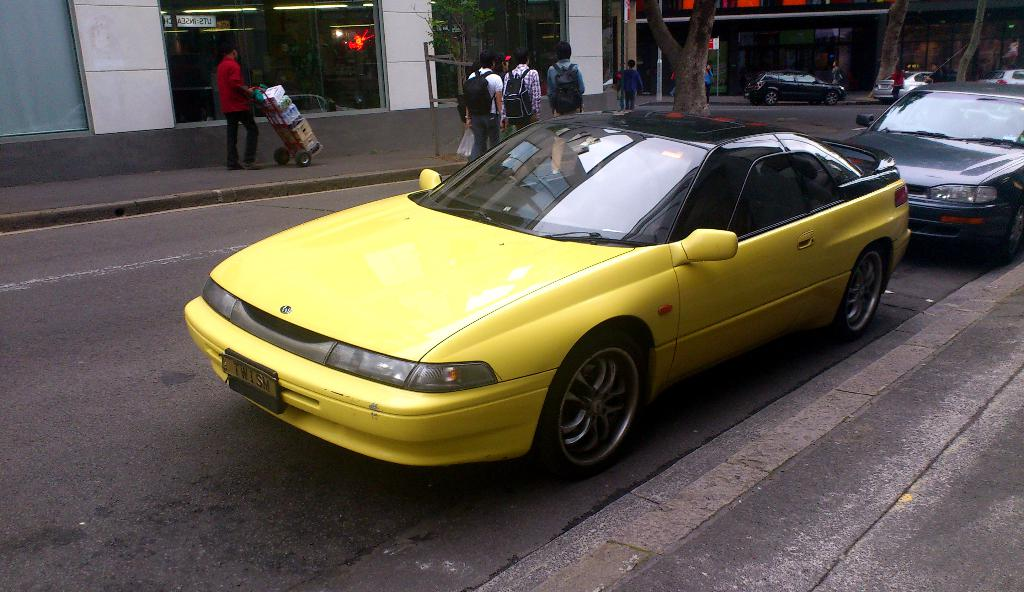mobil: (185, 107, 922, 513)
